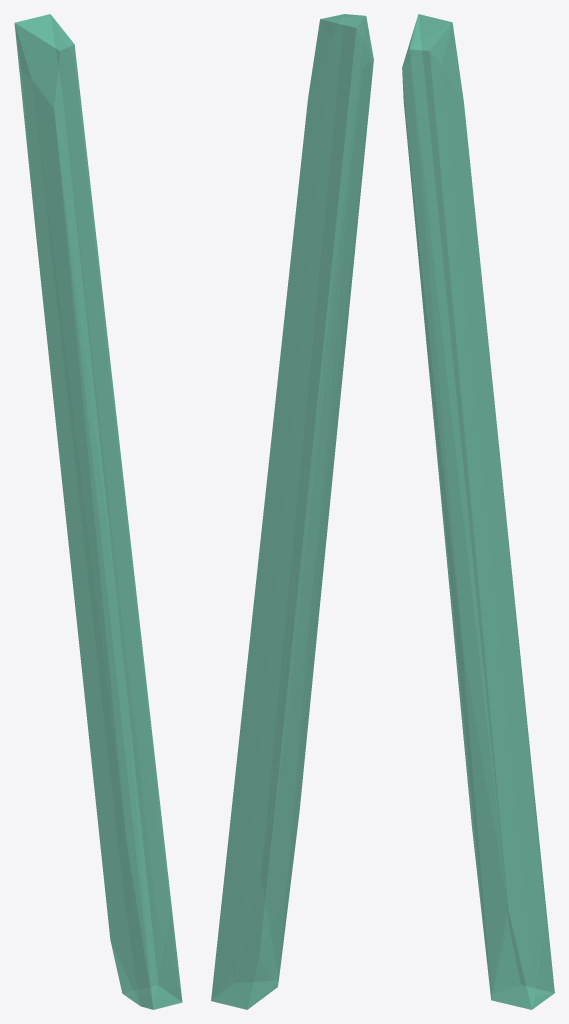
3 views of the same model, side by side, from view 1: azimuth 30°, elevation 25°; view 2: azimuth 150°, elevation 25°; view 3: azimuth 330°, elevation 25° (orthographic). The views are drawn at different scales.
Visible parts, largest first — view 1: Shape_IndexedFaceSet.069_Shape_IndexedFaceSet.15274; view 2: Shape_IndexedFaceSet.069_Shape_IndexedFaceSet.15274; view 3: Shape_IndexedFaceSet.069_Shape_IndexedFaceSet.15274.
Part boxes in pixels (left/top/right/bottom): Shape_IndexedFaceSet.069_Shape_IndexedFaceSet.15274: left=14, top=14, right=182, bottom=1009; Shape_IndexedFaceSet.069_Shape_IndexedFaceSet.15274: left=211, top=14, right=373, bottom=1009; Shape_IndexedFaceSet.069_Shape_IndexedFaceSet.15274: left=402, top=14, right=554, bottom=1009.
Bounding box in the file's own units: 0.0104 × 0.0692 × 0.00392.
